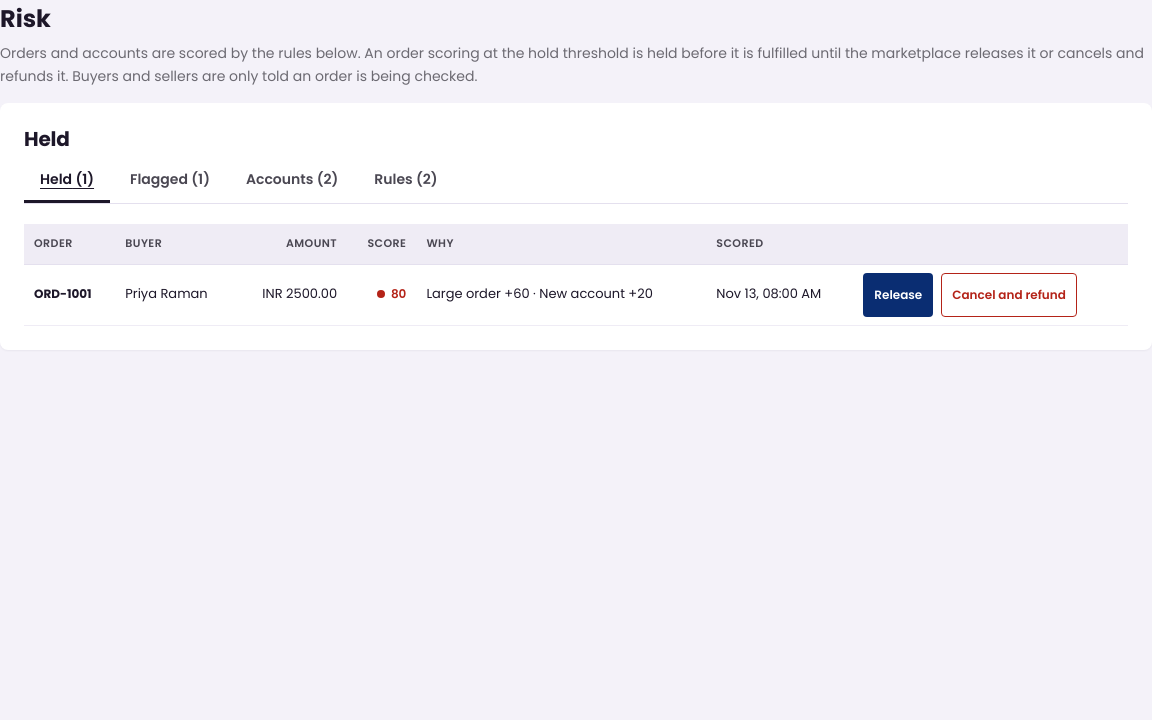
OperatorRisk › needs a note, and says the cancel note is shown to the buyer and seller
Step 1. Click the button "Cancel and refund" → coordinates (1009, 295), box [941, 273, 1077, 317]
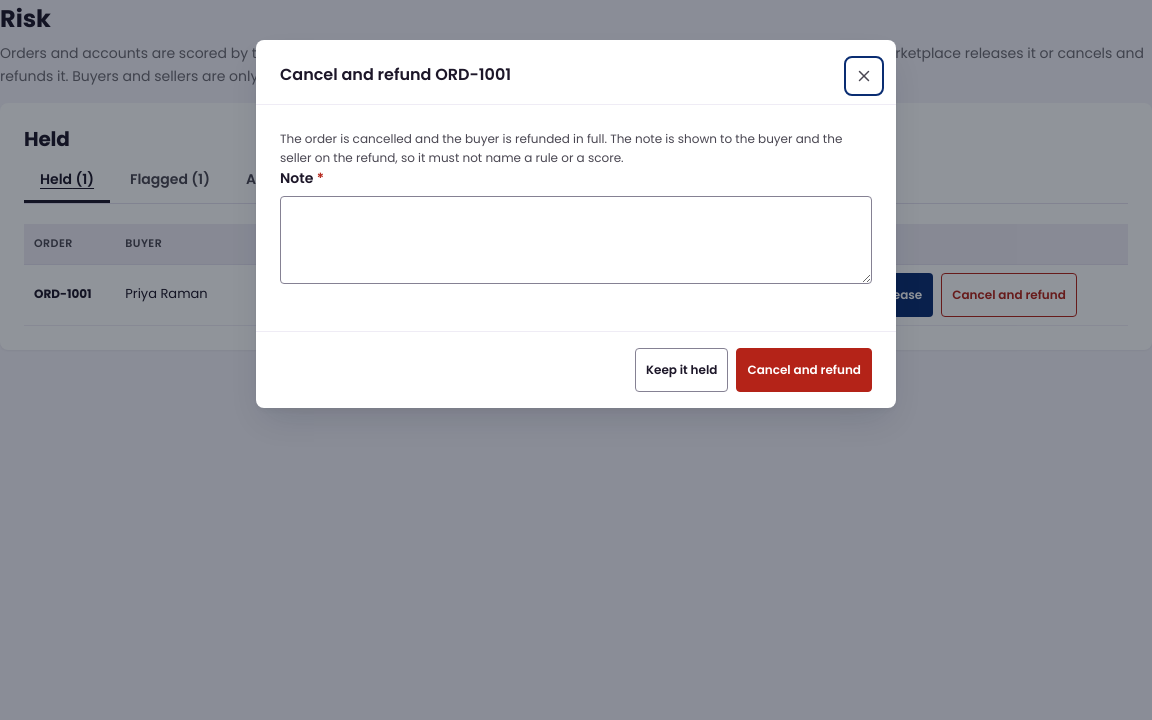
expect the text "shown to the buyer and the seller" is shown: met, box [280, 130, 842, 166]
Step 2. Click the button "Cancel and refund" → coordinates (804, 370), box [736, 348, 872, 392]
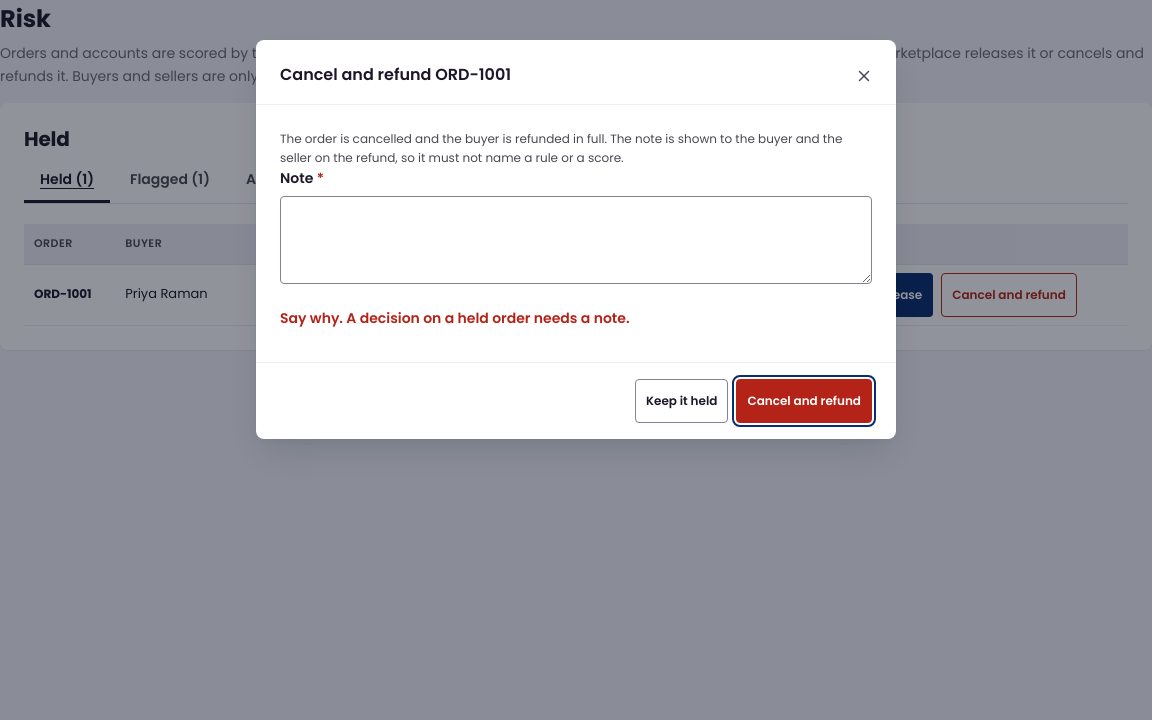
expect the message shows "needs a note": met, box [280, 308, 630, 328]
